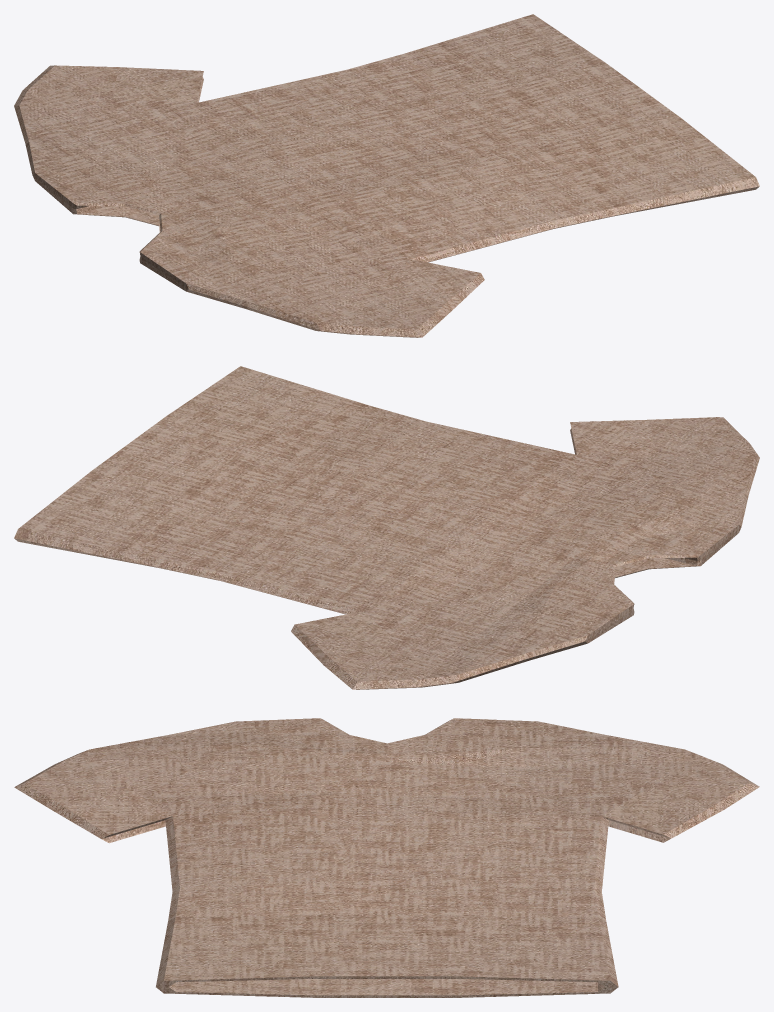
The model's file is camiseta1_2.fbx.
The picture shows the model from 3 angles, top to bottom: view 1: azimuth 30°, elevation 25°; view 2: azimuth 150°, elevation 25°; view 3: azimuth 270°, elevation 25°; orthographic projection.
Parts seen in each view (by area): view 1: shirt2:Mesh; view 2: shirt2:Mesh; view 3: shirt2:Mesh.
Part boxes in pixels (x1,y1,x2,y2): shirt2:Mesh: [14, 14, 759, 337]; shirt2:Mesh: [14, 366, 759, 689]; shirt2:Mesh: [14, 718, 759, 997].
Bounding box in the file's own units: 2.79 × 0.1059 × 3.34.
1 material, 1 textured.
